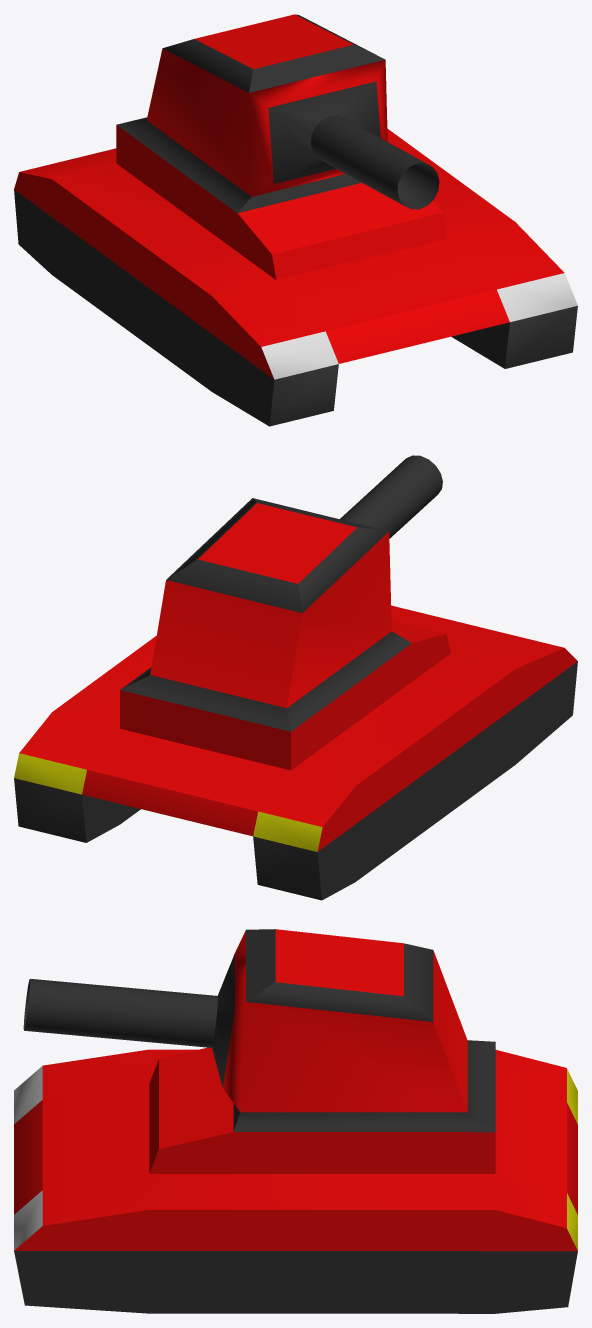
The model's file is WarHeavyRed.fbx.
3 renders of one model, top to bottom at view 1: azimuth 30°, elevation 25°; view 2: azimuth 150°, elevation 25°; view 3: azimuth 270°, elevation 25°, orthographic. The views are drawn at different scales.
Parts seen in each view (by area): view 1: pCylinder2; view 2: pCylinder2; view 3: pCylinder2.
Boxes of the visible parts, x1,y1,x2,y2 form: pCylinder2: (14,14,577,426); pCylinder2: (14,455,577,900); pCylinder2: (14,929,577,1313).
Bounding box in the file's own units: 5.02 × 4.05 × 7.46.
